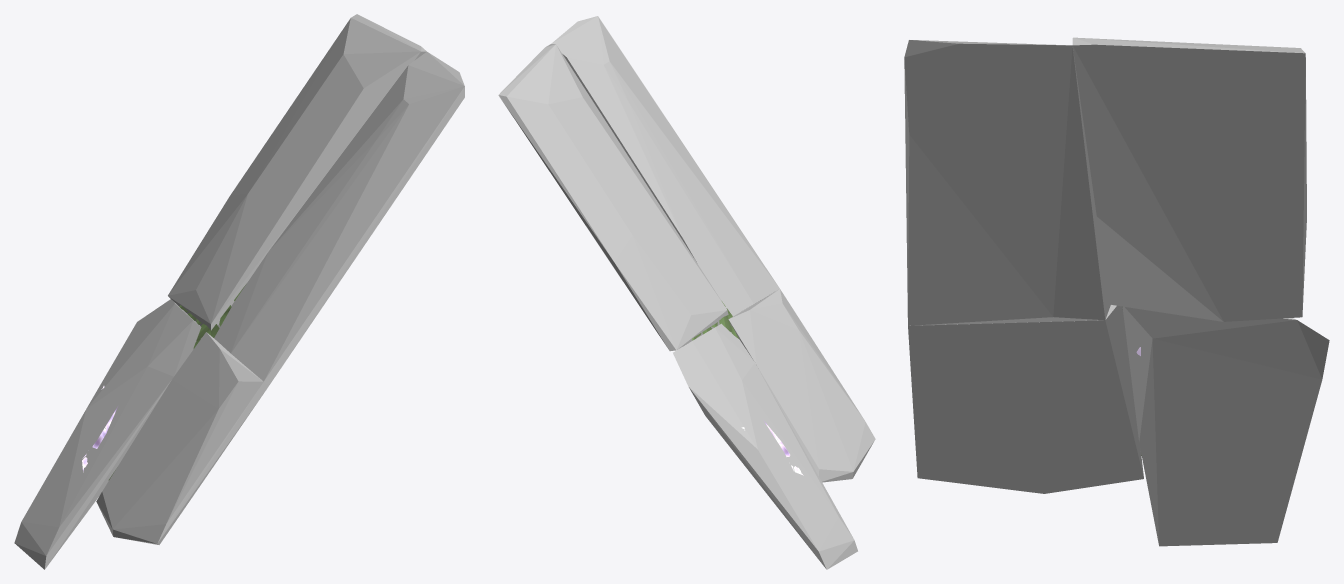
Rendered from SM_Env_Vines_Preset_Roof_Straight_05.fbx.
The picture shows the model from 3 angles, left to right: view 1: azimuth 30°, elevation 25°; view 2: azimuth 150°, elevation 25°; view 3: azimuth 270°, elevation 25°; orthographic projection. The views are drawn at different scales.
Parts seen in each view (by area): view 1: SM_Env_Vines_Preset_Roof_Straight_05_ConvexHulls, SM_Env_Vines_Preset_Roof_Straight_05; view 2: SM_Env_Vines_Preset_Roof_Straight_05_ConvexHulls, SM_Env_Vines_Preset_Roof_Straight_05; view 3: SM_Env_Vines_Preset_Roof_Straight_05_ConvexHulls.
Boxes of the visible parts, x1,y1,x2,y2 form: SM_Env_Vines_Preset_Roof_Straight_05_ConvexHulls: (14,14,464,569); SM_Env_Vines_Preset_Roof_Straight_05: (82,285,245,480); SM_Env_Vines_Preset_Roof_Straight_05_ConvexHulls: (498,16,875,569); SM_Env_Vines_Preset_Roof_Straight_05: (692,301,803,475); SM_Env_Vines_Preset_Roof_Straight_05_ConvexHulls: (904,37,1329,546).
Bounding box in the file's own units: 204 × 114 × 244.
Materials: 3 (2 with a texture image).
